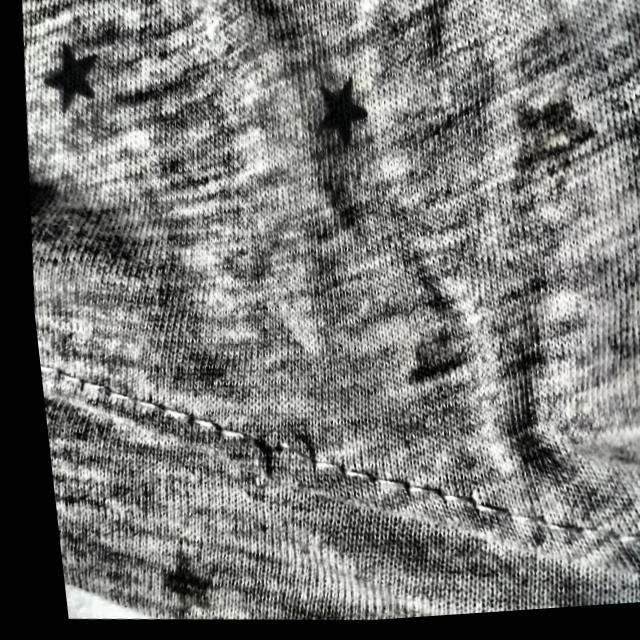Stitch: (184, 406, 355, 525)
